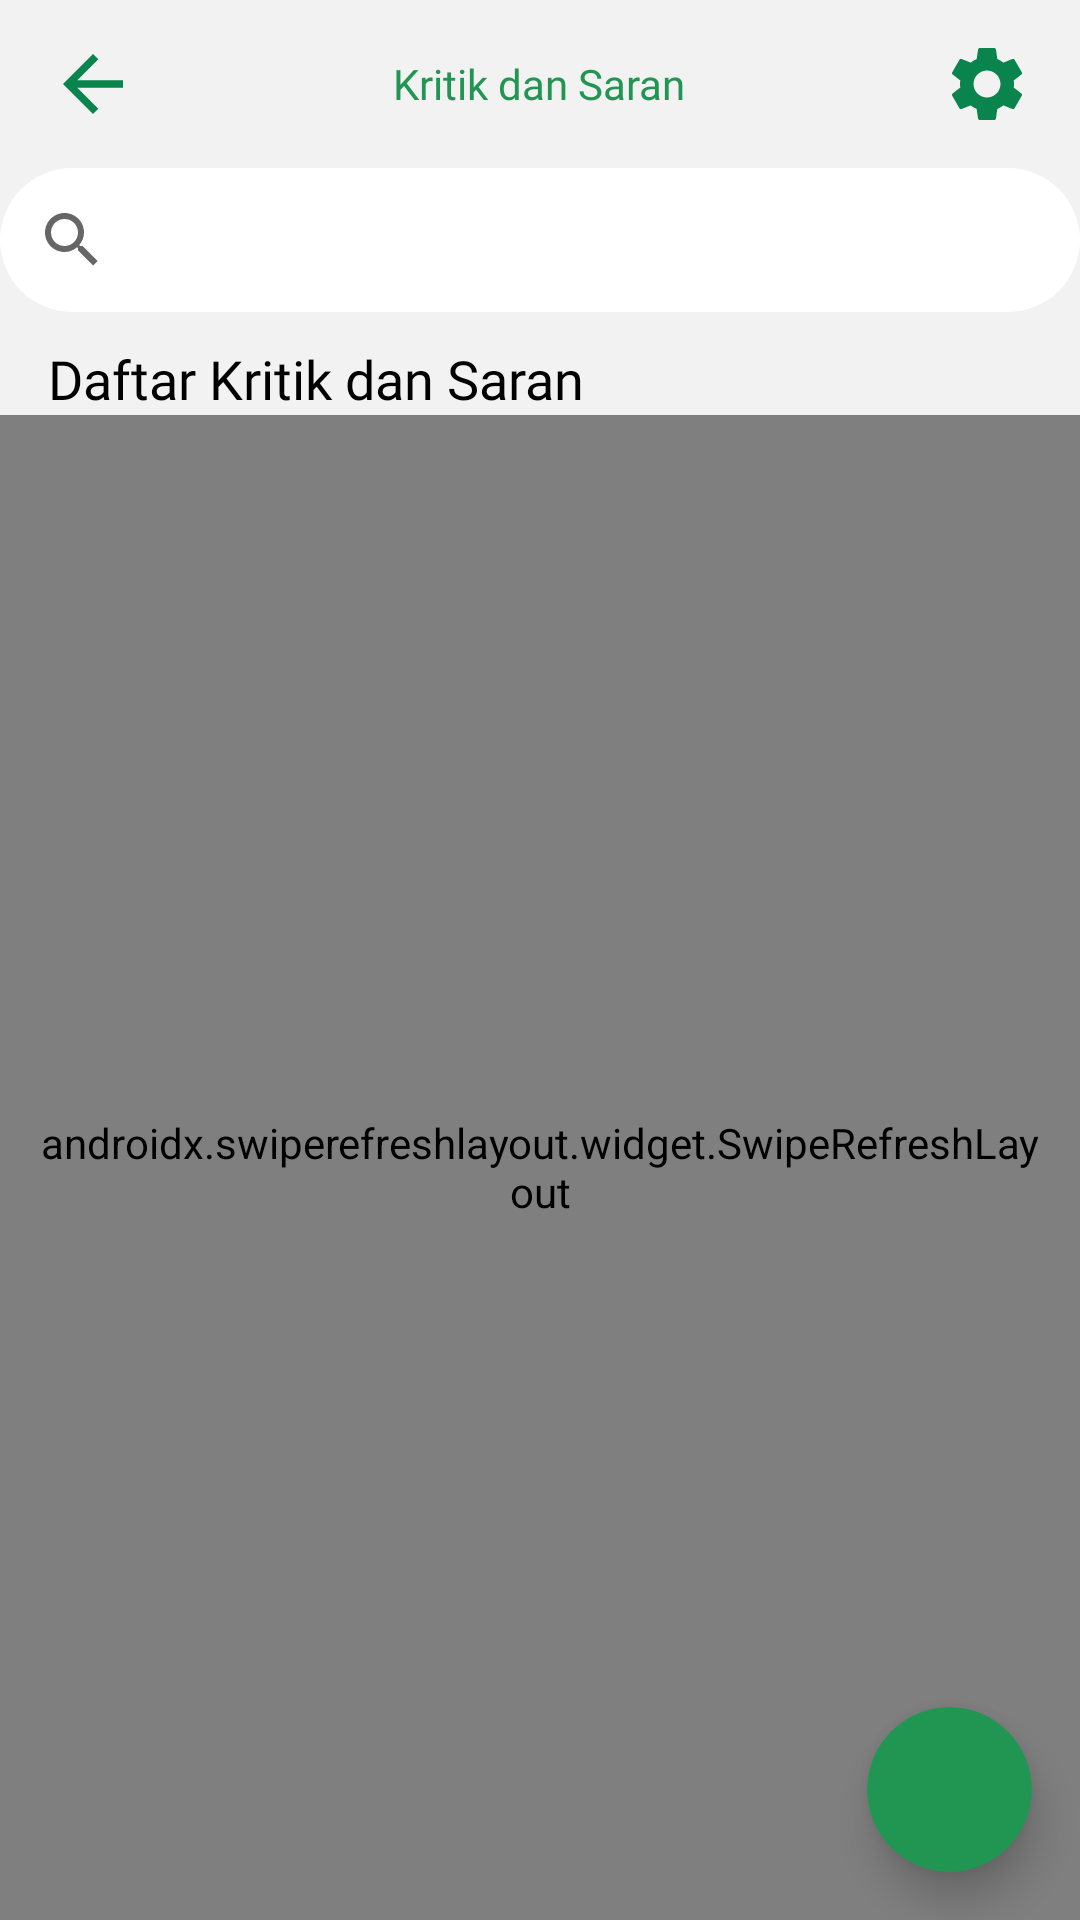

Icon bounding boxes for this 1080 x 1920 phone screenshot, format (x1, y1, x2, y2):
arrow back: (63, 54, 123, 114)
sett: (952, 48, 1022, 120)
